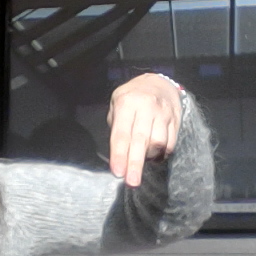N: (104, 74, 186, 188)
